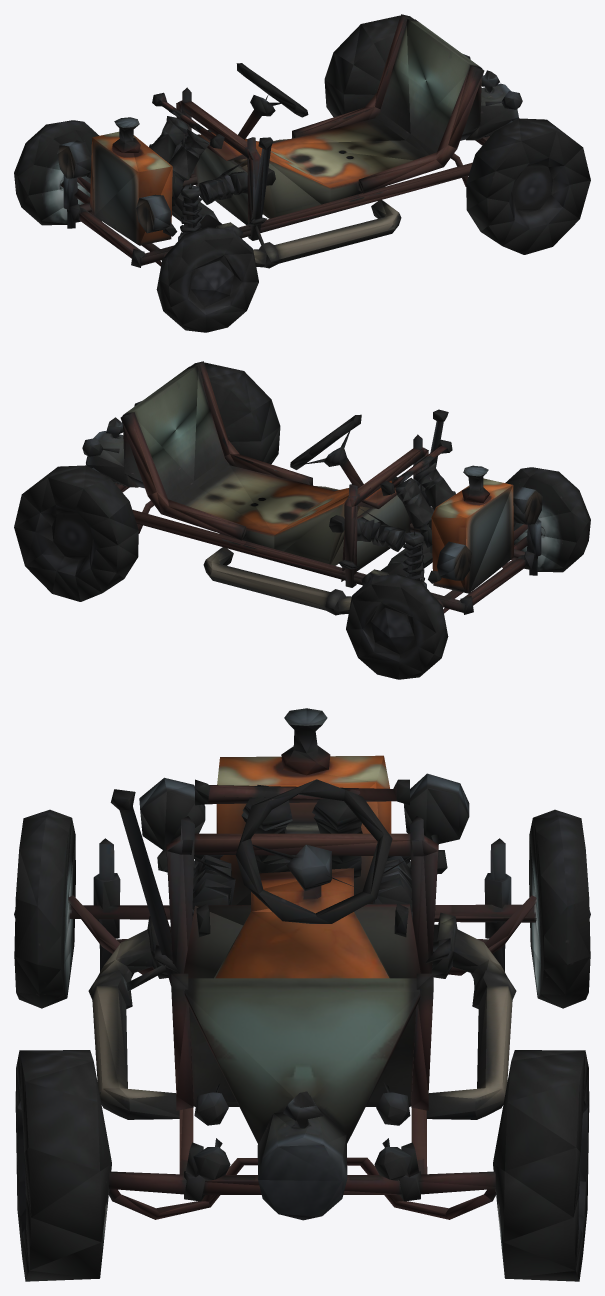
The model's file is chassis_rail.glb.
3 views of the same model, one above another, from view 1: azimuth 30°, elevation 25°; view 2: azimuth 150°, elevation 25°; view 3: azimuth 270°, elevation 25° (orthographic). The views are drawn at different scales.
Parts seen in each view (by area): view 1: tripo_node_5c7d3a7d-8db8-4e73-a069-cc46a8260ef4; view 2: tripo_node_5c7d3a7d-8db8-4e73-a069-cc46a8260ef4; view 3: tripo_node_5c7d3a7d-8db8-4e73-a069-cc46a8260ef4.
Part boxes in pixels (x1,y1,x2,y2): tripo_node_5c7d3a7d-8db8-4e73-a069-cc46a8260ef4: [14, 14, 590, 332]; tripo_node_5c7d3a7d-8db8-4e73-a069-cc46a8260ef4: [14, 361, 590, 679]; tripo_node_5c7d3a7d-8db8-4e73-a069-cc46a8260ef4: [14, 708, 590, 1281].
Size of the model in its own units: 1 by 0.4035 by 0.666.
1 material, 1 textured.
